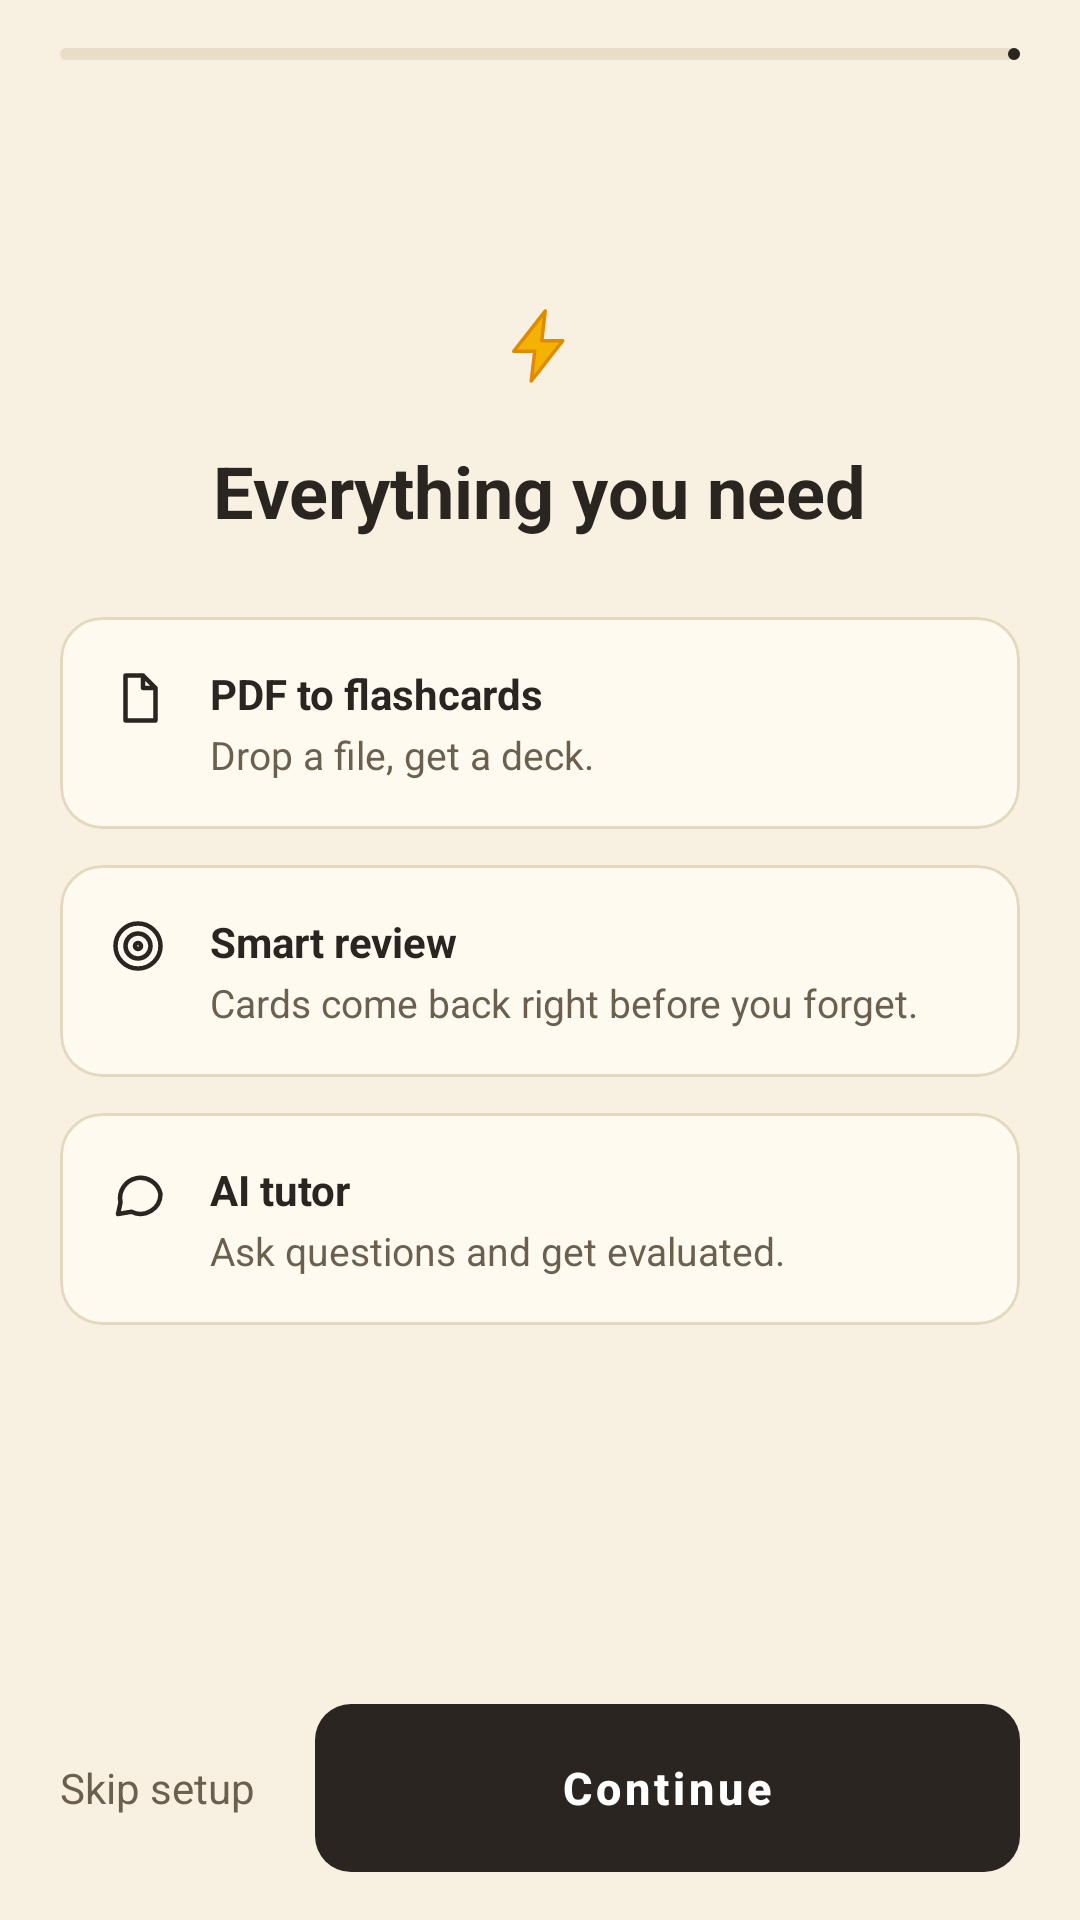

Icon click points for this 1080px×1920px phone screenshot, format (x=x, y=y):
chat: (x=139, y=1196)
setup bolt: (x=538, y=346)
target: (x=138, y=946)
